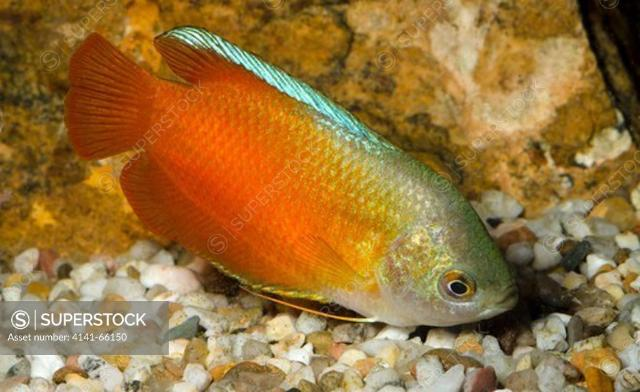Mulut: (476, 258, 540, 336)
Sirip Anal: (117, 145, 323, 301)
Sirip Dada: (281, 222, 371, 302)
Sirip Ekor: (56, 17, 160, 171)
Sirip Perut: (219, 278, 383, 352)
Sirip Punggung: (146, 19, 397, 149)
